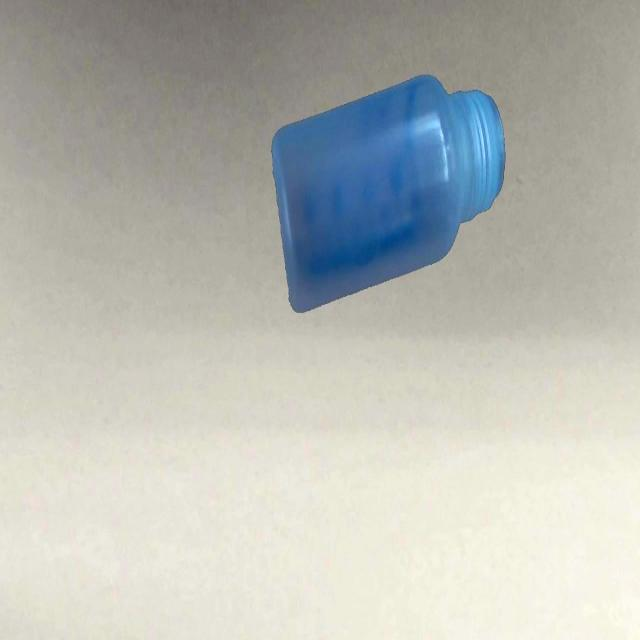bottle: (270, 72, 506, 316)
